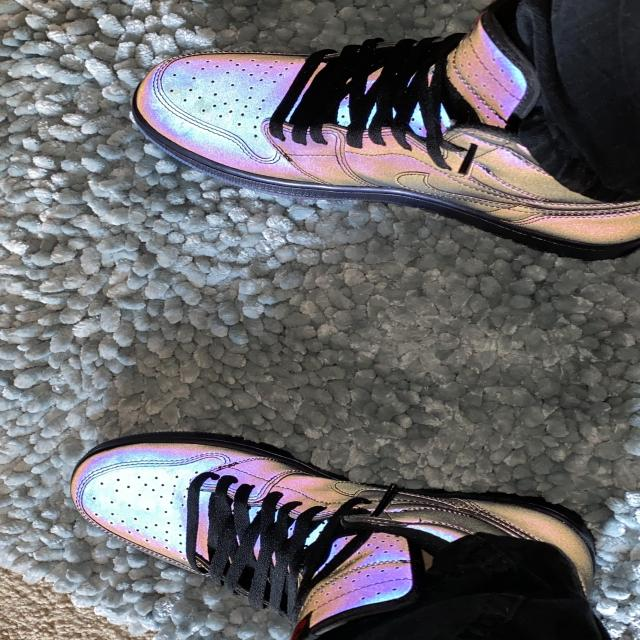shoe: (134, 16, 640, 258), (70, 431, 600, 622)
